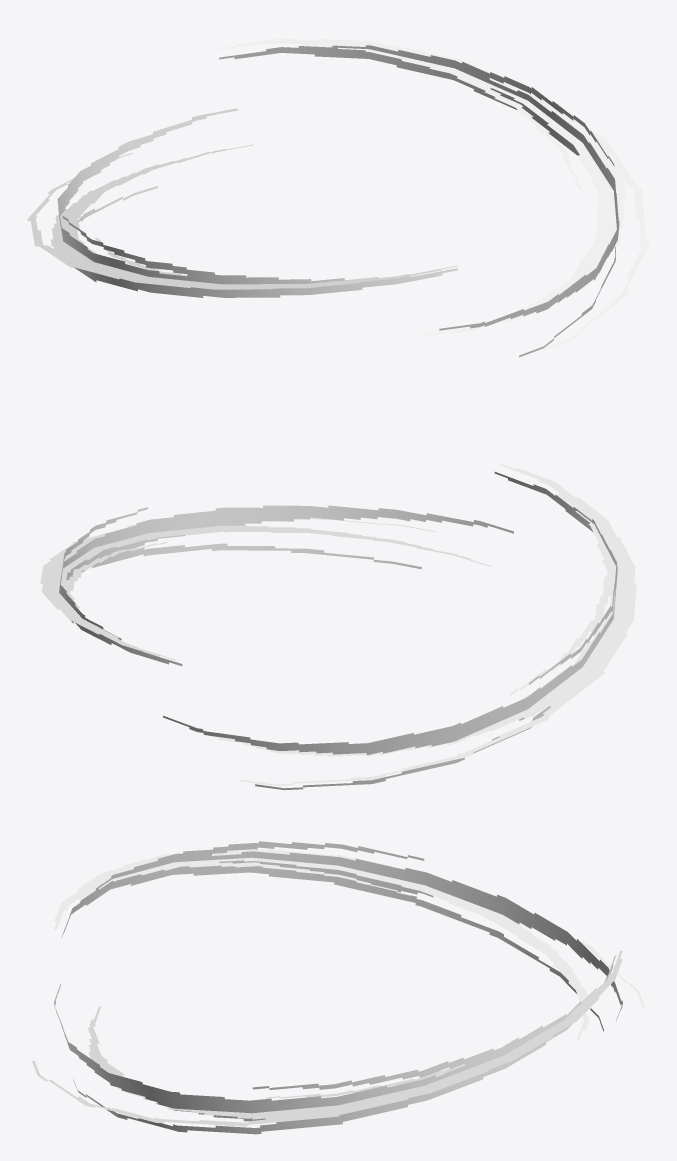
Rendered from Spin Effect.obj.
The picture shows the model from 3 angles, top to bottom: view 1: azimuth 30°, elevation 25°; view 2: azimuth 150°, elevation 25°; view 3: azimuth 270°, elevation 25°; orthographic projection.
Visible parts, largest first — view 1: polygon1, polygon2, polygon0, polygon3; view 2: polygon3, polygon0, polygon2, polygon1; view 3: polygon2, polygon0, polygon1, polygon3.
Boxes of the visible parts, x1=… form: polygon1: x1=218, y1=38, x2=649, y2=349; polygon2: x1=57, y1=108, x2=457, y2=297; polygon0: x1=219, y1=45, x2=619, y2=357; polygon3: x1=27, y1=144, x2=458, y2=289; polygon3: x1=186, y1=464, x2=636, y2=785; polygon0: x1=59, y1=505, x2=513, y2=665; polygon2: x1=163, y1=472, x2=617, y2=790; polygon1: x1=40, y1=517, x2=491, y2=660; polygon2: x1=61, y1=841, x2=622, y2=1031; polygon0: x1=54, y1=955, x2=615, y2=1134; polygon1: x1=32, y1=950, x2=622, y2=1126; polygon3: x1=54, y1=849, x2=644, y2=1040.
Bounding box in the file's own units: 92.94 × 24.31 × 91.55.
